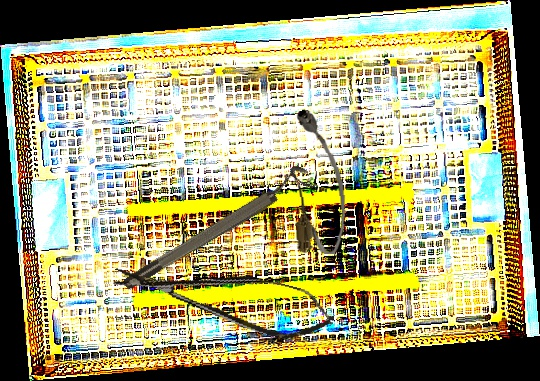Cannula: (287, 107, 350, 257)
Fixation Ring: (115, 161, 317, 294)
Micro Scissor: (108, 243, 340, 350)
